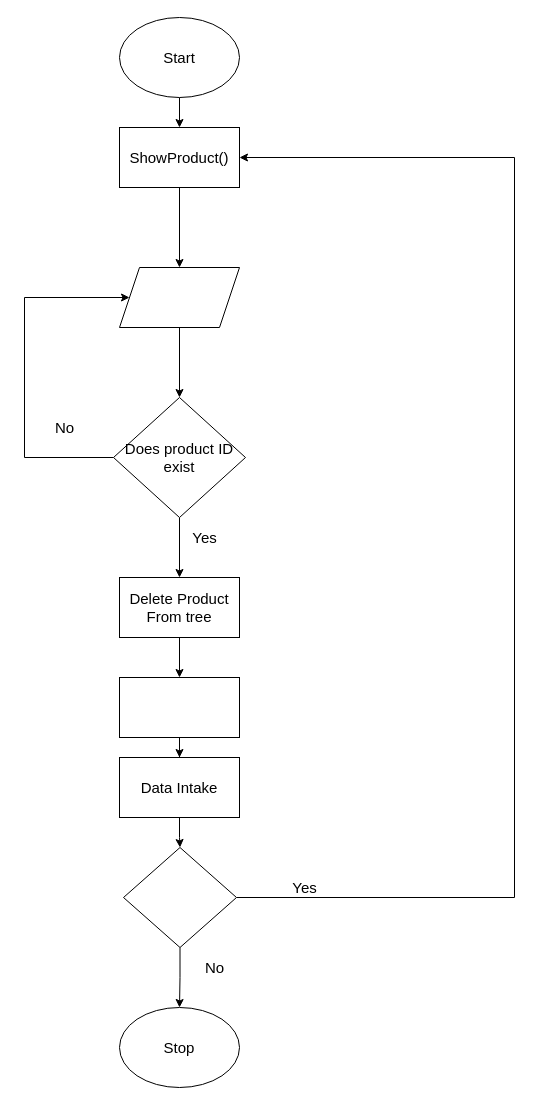
This 540x1105 diagram has some shape labels left out. Each missing label, with the centre of its shape:
"Delete Another Product" goes at pixel 179 897.
"Enter Product ID of product to be deleted" goes at pixel 179 297.
"Update MasterList" goes at pixel 179 707.
